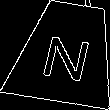N_N: (37, 24, 95, 81)
